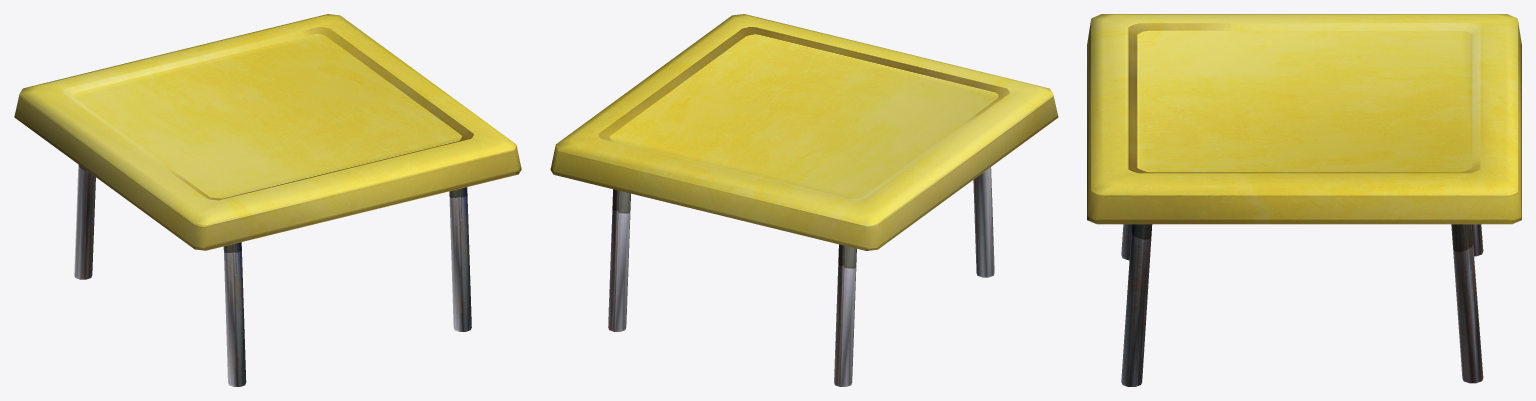
The model's file is table5.glb.
3 renders of one model, left to right at view 1: azimuth 30°, elevation 25°; view 2: azimuth 150°, elevation 25°; view 3: azimuth 270°, elevation 25°, orthographic. The views are drawn at different scales.
Visible parts, largest first — view 1: Box03; view 2: Box03; view 3: Box03.
Boxes of the visible parts, x1,y1,x2,y2 form: Box03: (14, 14, 521, 386); Box03: (550, 14, 1058, 386); Box03: (1087, 14, 1521, 386).
Size of the model in its own units: 81.55 by 45.02 by 81.55.
1 material, 1 textured.
